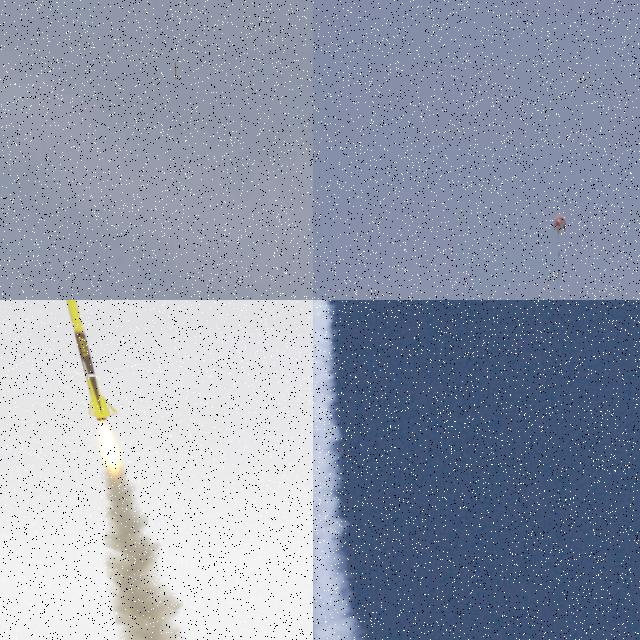Rocket: (63, 300, 118, 422), (174, 60, 177, 79)
